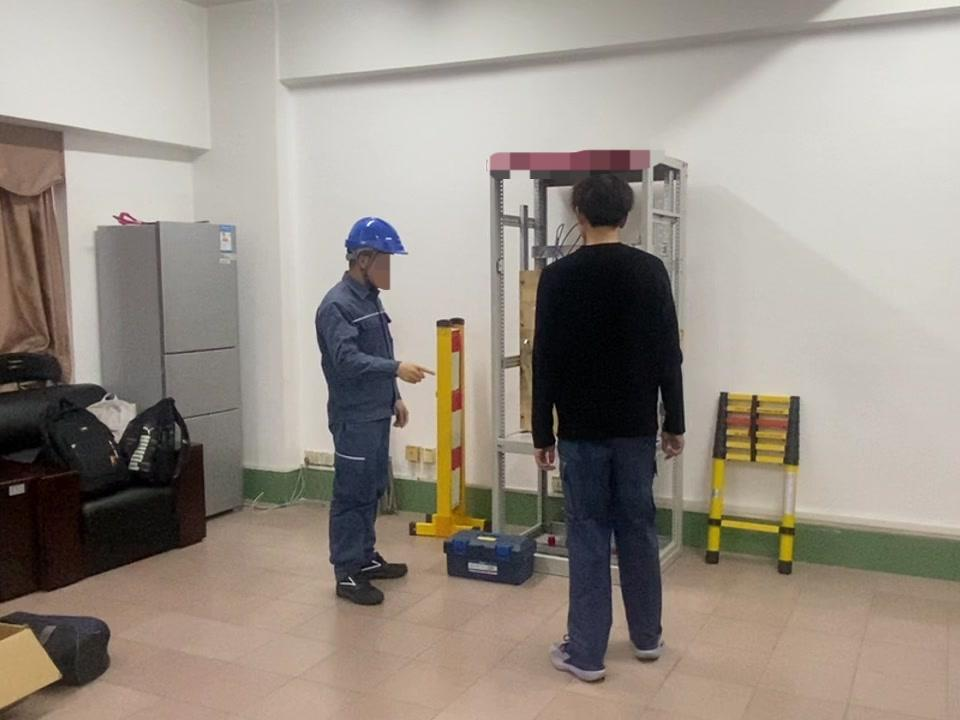halt: (345, 217, 409, 289)
inear: (354, 250, 380, 280)
noear: (575, 208, 625, 243)
unhalt: (569, 172, 639, 243)
